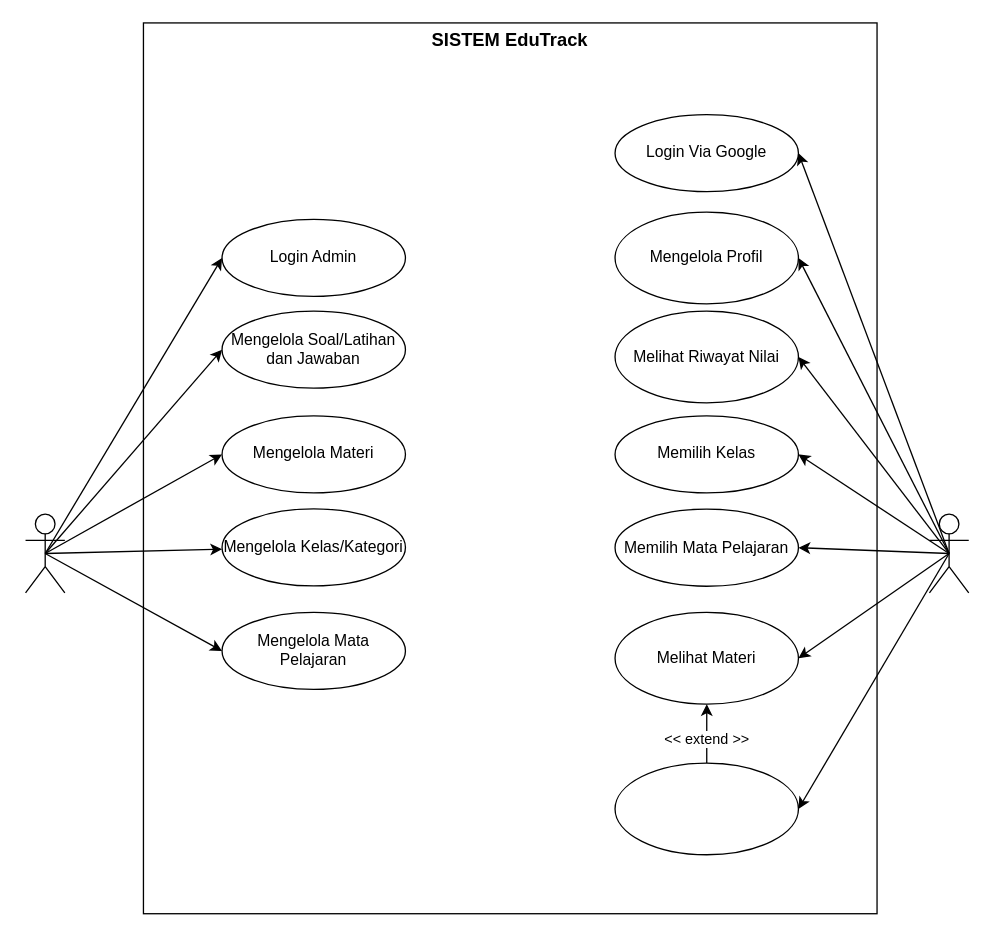
Image size: 996x937. Some labels were removed from this diagram. The box of each missing label's shape, as (x1, y1, x2, y2) in pixels:
Admin: (24, 513, 65, 593)
Mengerjakan Soal/Latihan: (614, 762, 798, 855)
Pelajar: (928, 513, 969, 593)
